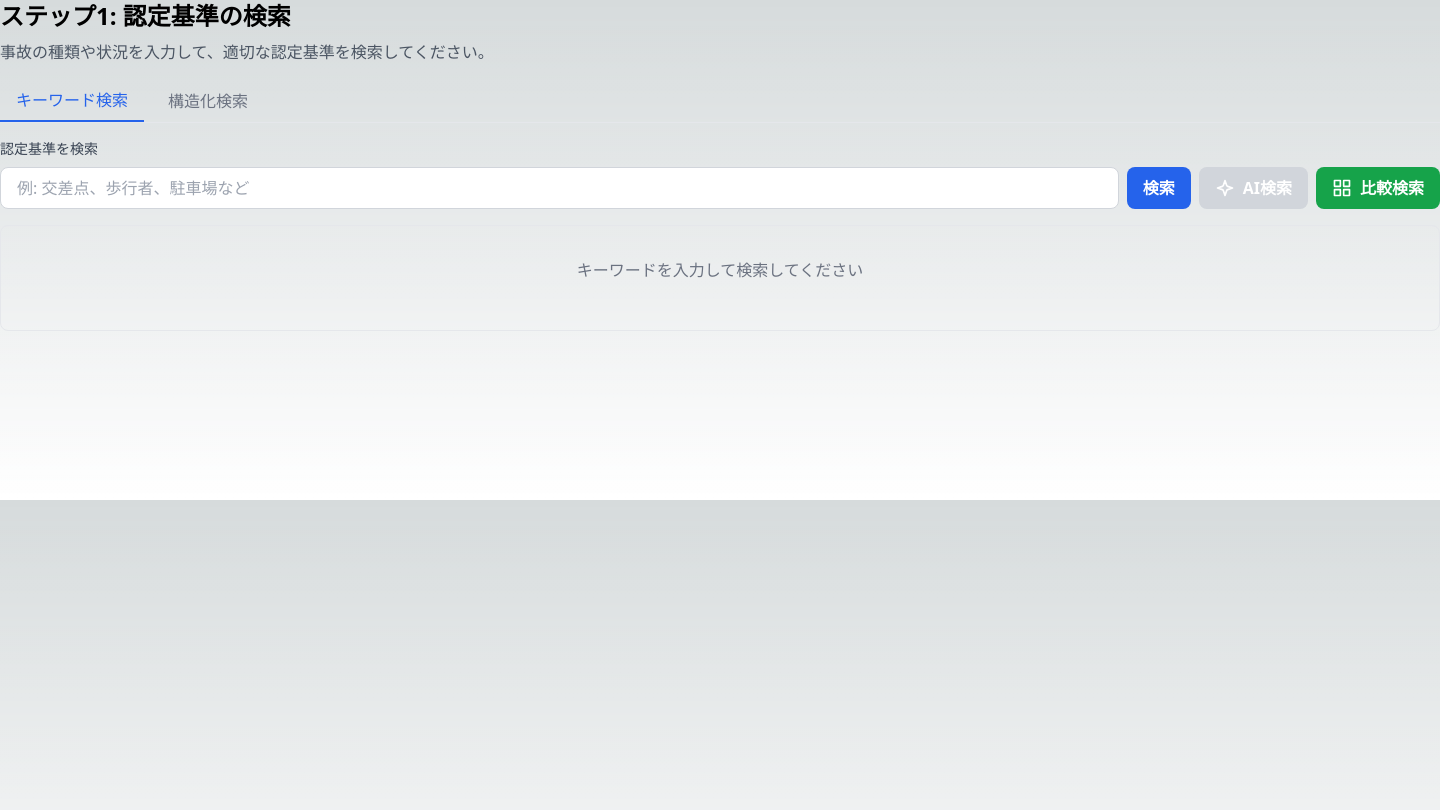
Test: Step1Search › renders search input and criteria list
The image size is (1440, 810).
Expected: the field with placeholder "例: 交差点、歩行者、駐車場など" is shown, [0,167,1119,209]
Click the button "検索" at (1159, 188), box [1127,167,1191,209]
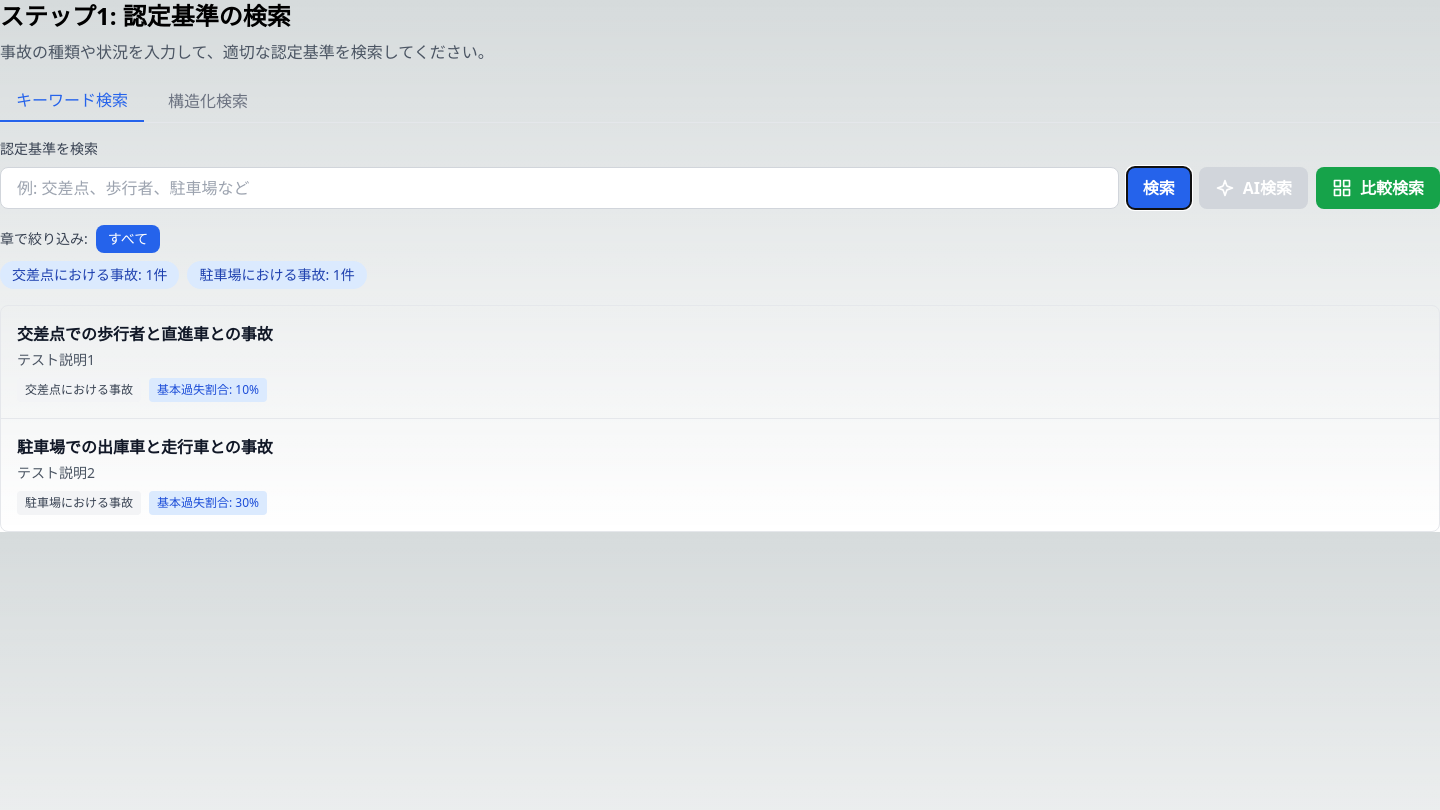
Expected: the heading "交差点での歩行者と直進車との事故" is shown, [17,322,273,346]
Expected: the heading "駐車場での出庫車と走行車との事故" is shown, [17,435,273,459]
